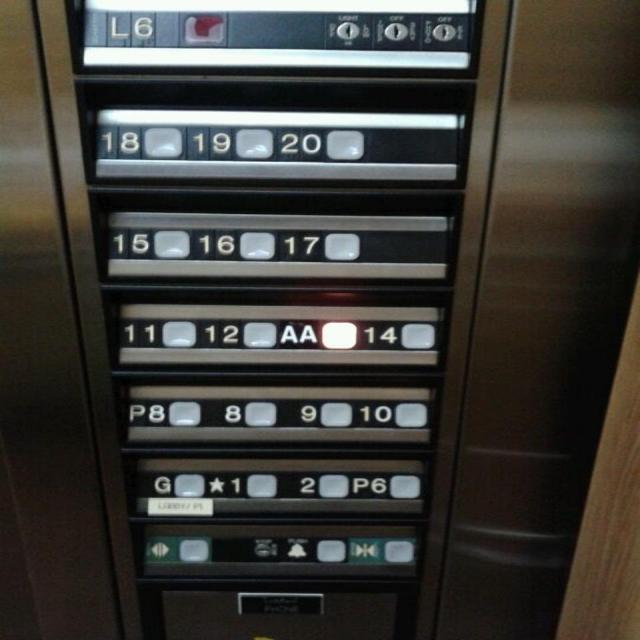10: (356, 396, 428, 430)
11: (118, 315, 199, 351)
12: (199, 316, 278, 352)
14: (361, 318, 437, 352)
15: (106, 225, 192, 261)
16: (196, 225, 279, 262)
17: (279, 226, 364, 264)
18: (96, 121, 185, 163)
19: (185, 122, 277, 164)
2: (291, 468, 350, 500)
20: (274, 124, 368, 164)
8: (214, 396, 280, 430)
9: (282, 396, 353, 430)
AA: (277, 317, 358, 351)
G: (133, 468, 208, 500)
L6: (105, 7, 232, 49)
P6: (350, 468, 425, 502)
P8: (126, 395, 207, 429)
alarm: (279, 534, 347, 566)
close: (348, 534, 419, 566)
keyhole: (318, 9, 373, 51), (420, 9, 471, 53), (373, 10, 423, 52), (249, 537, 280, 561)
open: (138, 534, 215, 566)
s1: (207, 468, 290, 500)
